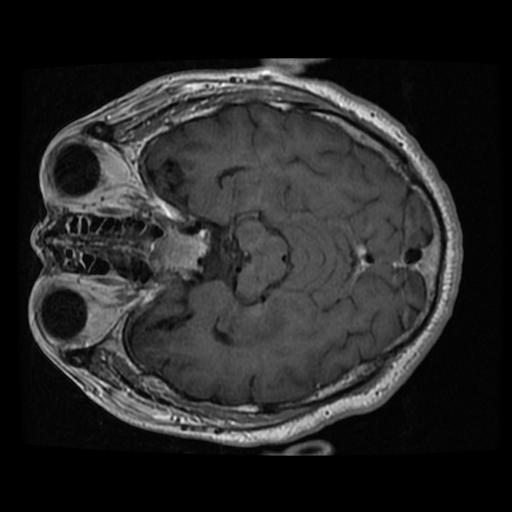pituitary tumour: (153, 232, 204, 272)
